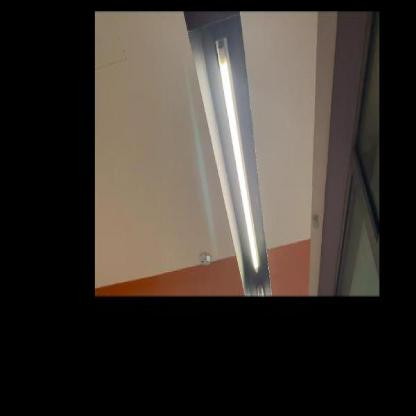light_on: (210, 28, 263, 280)
